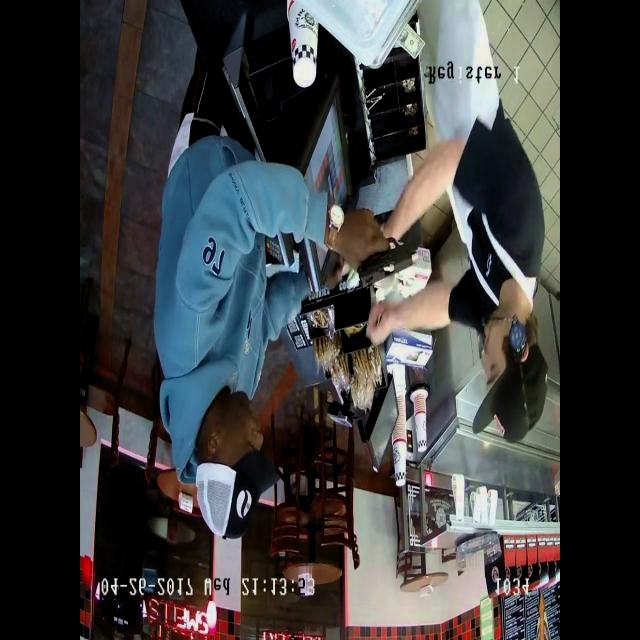gun: (339, 224, 425, 311)
